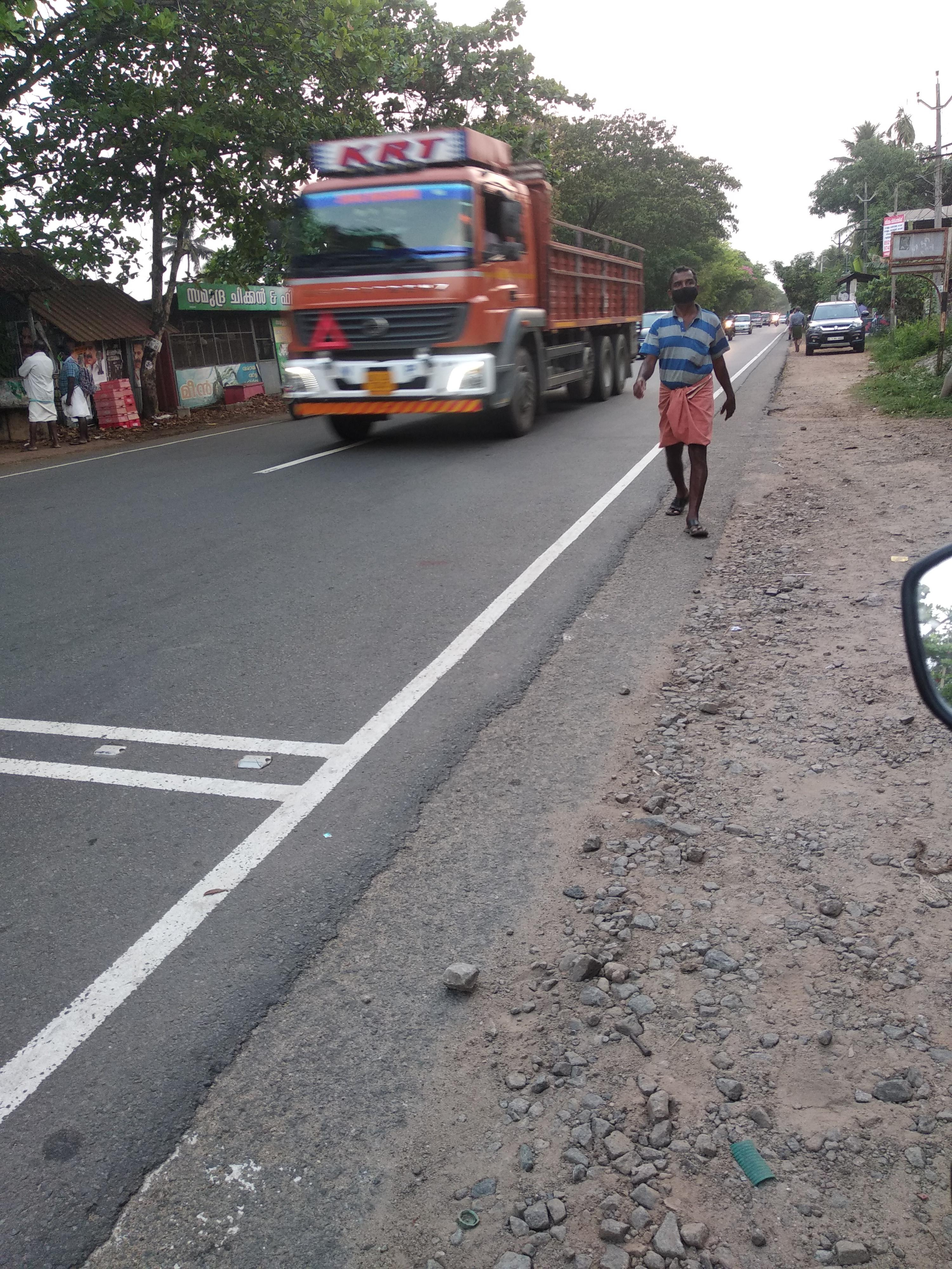non-ambulance: (214, 56, 665, 480)
